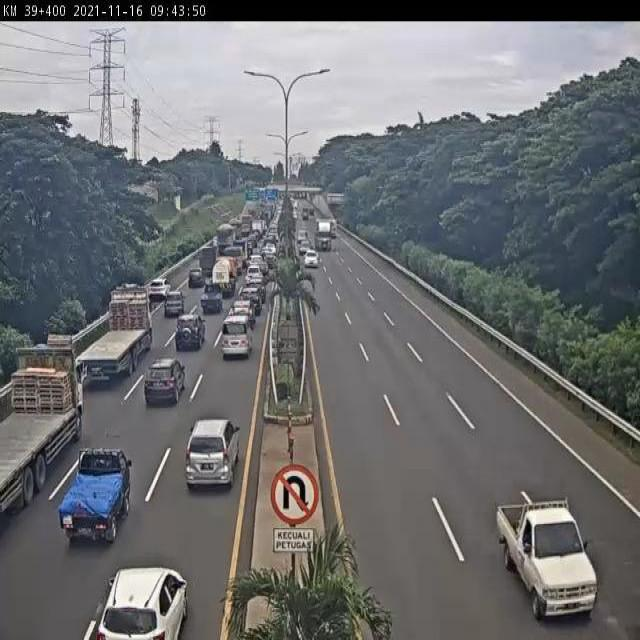car: (496, 503, 599, 624), (59, 447, 131, 541), (96, 569, 188, 640), (184, 419, 241, 496), (142, 360, 182, 409), (219, 319, 253, 365), (172, 314, 203, 354), (199, 283, 223, 316), (230, 300, 254, 333), (163, 293, 185, 320), (240, 287, 262, 313), (150, 277, 172, 299), (248, 277, 268, 299), (186, 269, 203, 291), (246, 265, 264, 284), (305, 253, 318, 268), (248, 254, 264, 266)
small truck: (225, 246, 244, 274)
truck-l-: (0, 348, 84, 515), (74, 288, 151, 379), (214, 224, 234, 255), (316, 221, 332, 251)
truck-m-: (212, 258, 235, 298), (195, 250, 216, 278)
